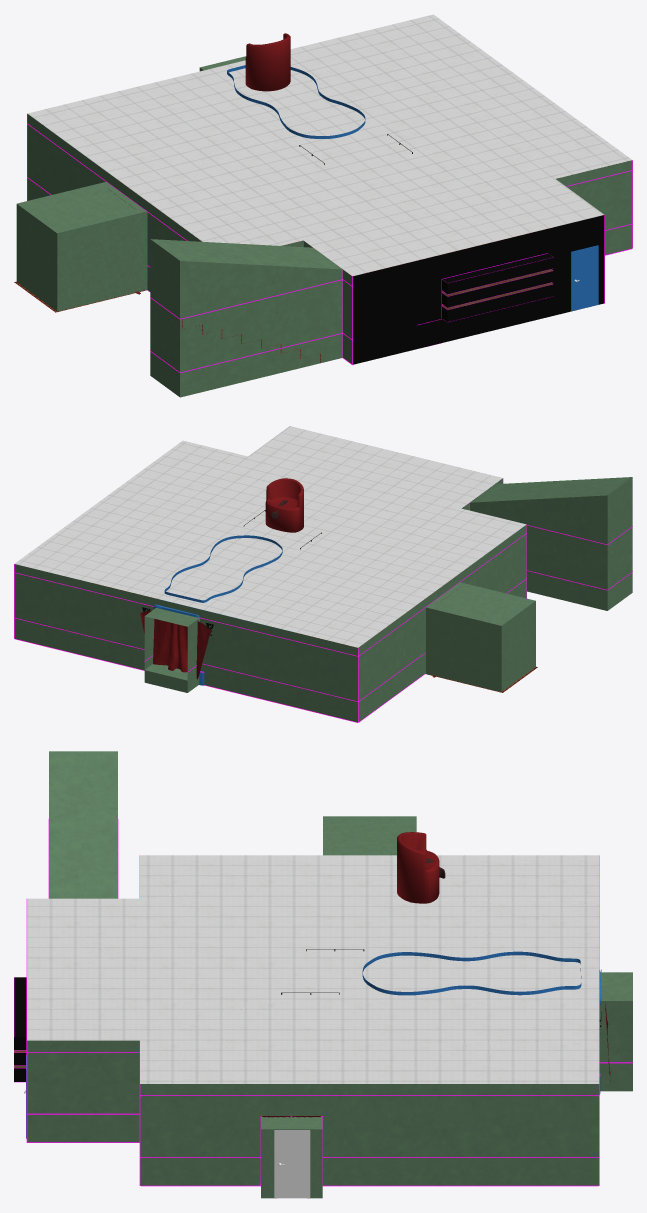
File: stripclub.glb
3 views of the same model, one above another, from view 1: azimuth 30°, elevation 25°; view 2: azimuth 150°, elevation 25°; view 3: azimuth 270°, elevation 25° (orthographic). The views are drawn at different scales.
Parts seen in each view (by area): view 1: ceiling.001, walls, walls.001, chair, walls.005, Door, Circle.001; view 2: ceiling.001, walls, Plane.001, walls.005, chair, Circle.001; view 3: ceiling.001, walls, walls.005, chair, Door.001, Circle.001, walls.001, DoorFrame.001.
Part boxes in pixels (x1,y1,x2,y2): ceiling.001: (27, 14, 632, 276); walls: (16, 56, 632, 397); walls.001: (353, 215, 604, 364); chair: (245, 33, 290, 91); walls.005: (27, 113, 632, 372); Door: (573, 248, 596, 310); Circle.001: (227, 65, 365, 138); ceiling.001: (14, 426, 526, 647); walls: (14, 477, 632, 722); Plane.001: (140, 610, 210, 679); walls.005: (14, 478, 632, 722); chair: (265, 478, 303, 532); Circle.001: (154, 535, 282, 617); ceiling.001: (27, 855, 599, 1083); walls: (27, 751, 632, 1198); walls.005: (26, 819, 632, 1186); chair: (397, 832, 439, 903); Door.001: (277, 1132, 307, 1198); Circle.001: (362, 951, 601, 1005); walls.001: (14, 977, 26, 1081); DoorFrame.001: (274, 1130, 310, 1198).
Bounding box in the file's own units: 40.02 × 14.86 × 35.59.
Materials: 53 (25 with a texture image).
